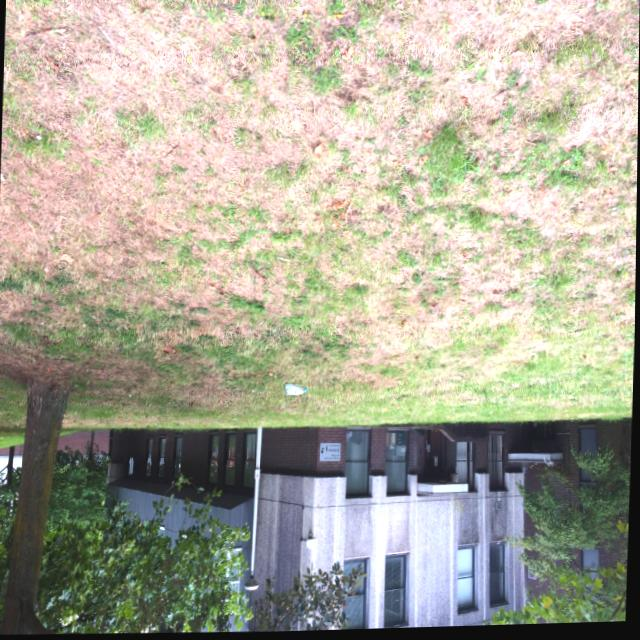Plastic: (283, 381, 311, 399)
